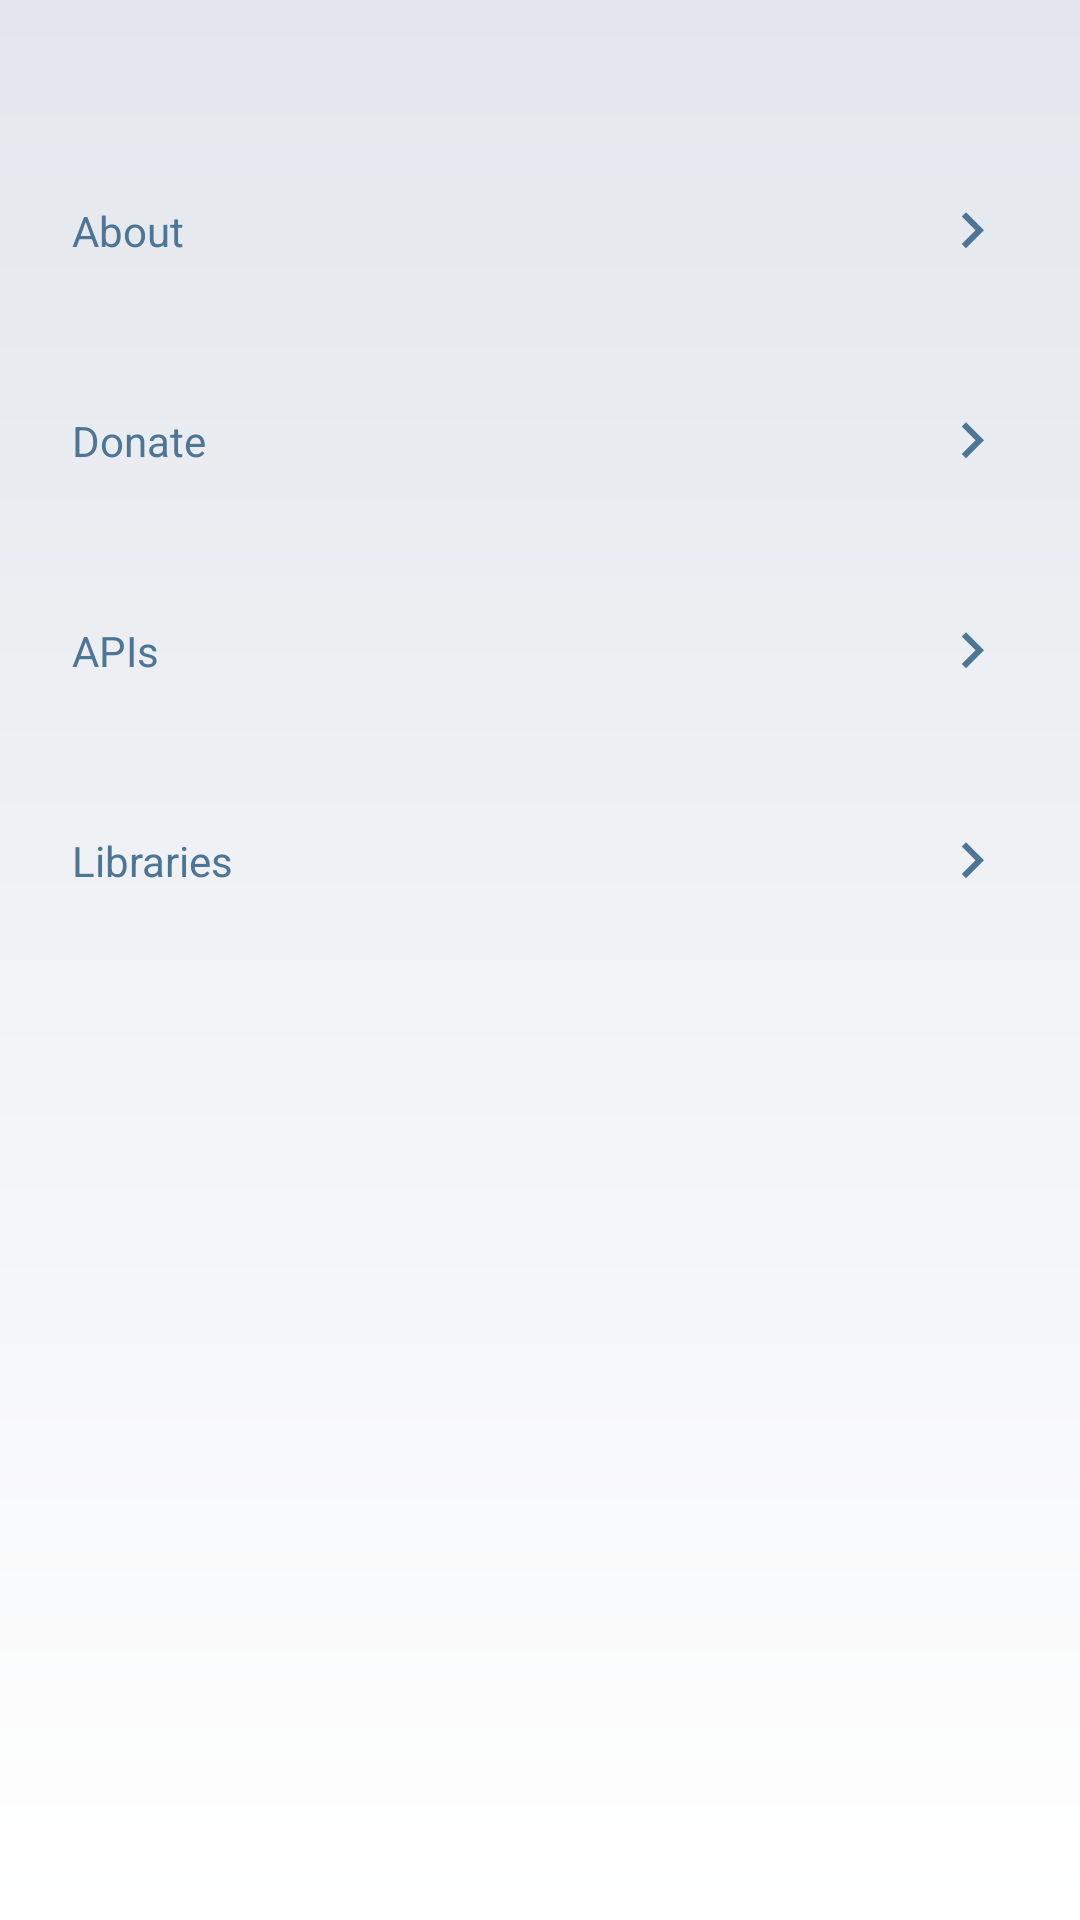

Where to tap for icons on this 1080x1920 app screen, as point (x, y):
arrow right: point (973, 230), point (973, 440), point (973, 650), point (973, 860)
